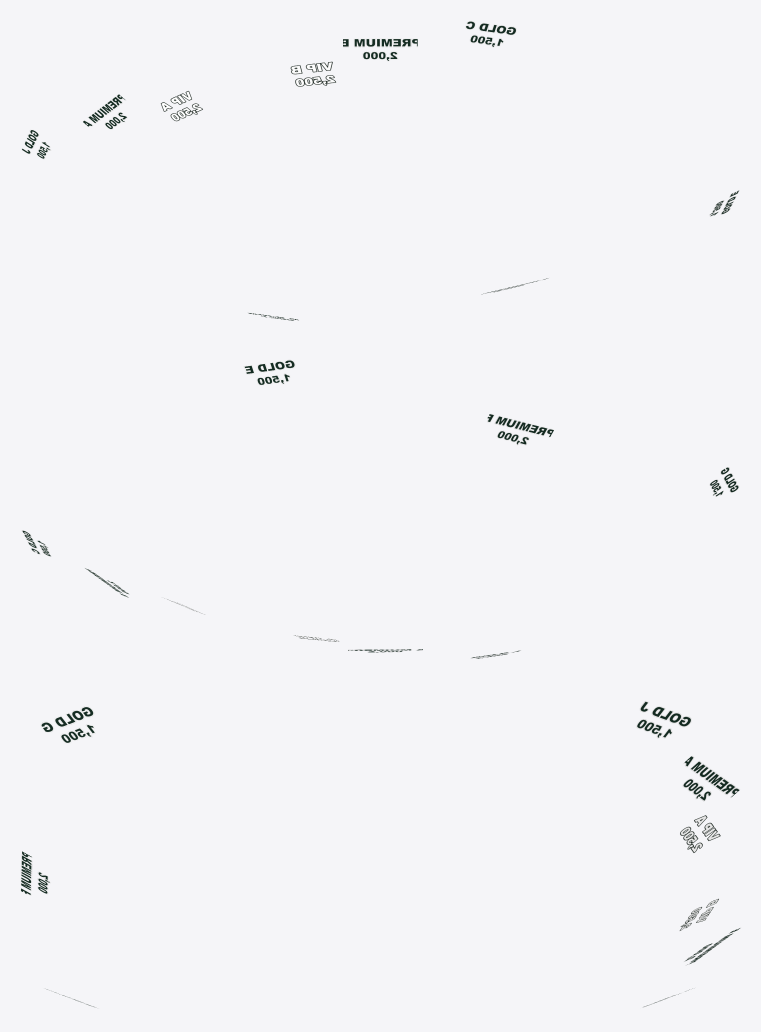
Rendered from pattani-stadium-labels-season.glb.
3 renders of one model, top to bottom at view 1: azimuth 30°, elevation 25°; view 2: azimuth 150°, elevation 25°; view 3: azimuth 270°, elevation 25°, orthographic. The views are drawn at different scales.
Parts seen in each view (by area): view 1: Label_B, Label_A, Label_C, Label_VIP-B; view 2: Label_F, Label_E; view 3: Label_A, Label_G, Label_J, Label_F, Label_VIP-A.
Boxes of the visible parts, x1=… form: Label_B: x1=343, y1=38, x2=417, y2=61; Label_A: x1=82, y1=94, x2=127, y2=129; Label_C: x1=465, y1=21, x2=516, y2=47; Label_VIP-B: x1=290, y1=61, x2=335, y2=86; Label_F: x1=487, y1=413, x2=553, y2=444; Label_E: x1=244, y1=360, x2=295, y2=385; Label_A: x1=682, y1=756, x2=739, y2=801; Label_G: x1=40, y1=706, x2=95, y2=743; Label_J: x1=636, y1=701, x2=691, y2=738; Label_F: x1=20, y1=851, x2=50, y2=895; Label_VIP-A: x1=680, y1=815, x2=720, y2=852.
Size of the model in its own units: 152 by 8.94 by 149.
9 materials, 9 textured.
